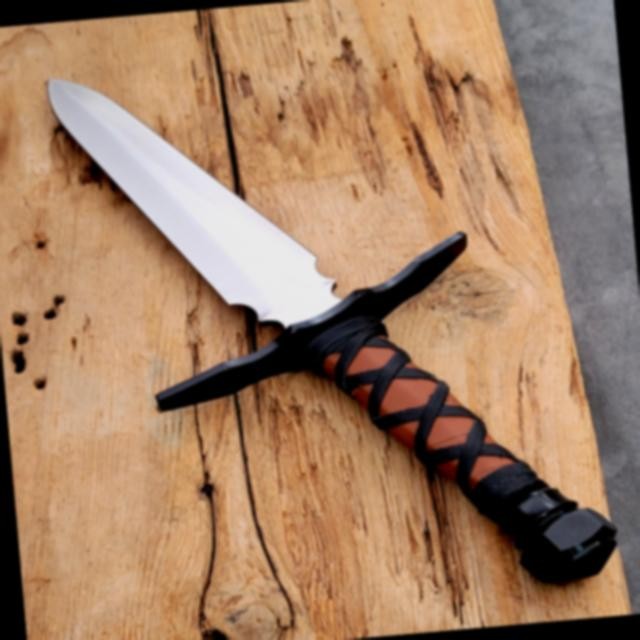short sword: (25, 16, 628, 633)
